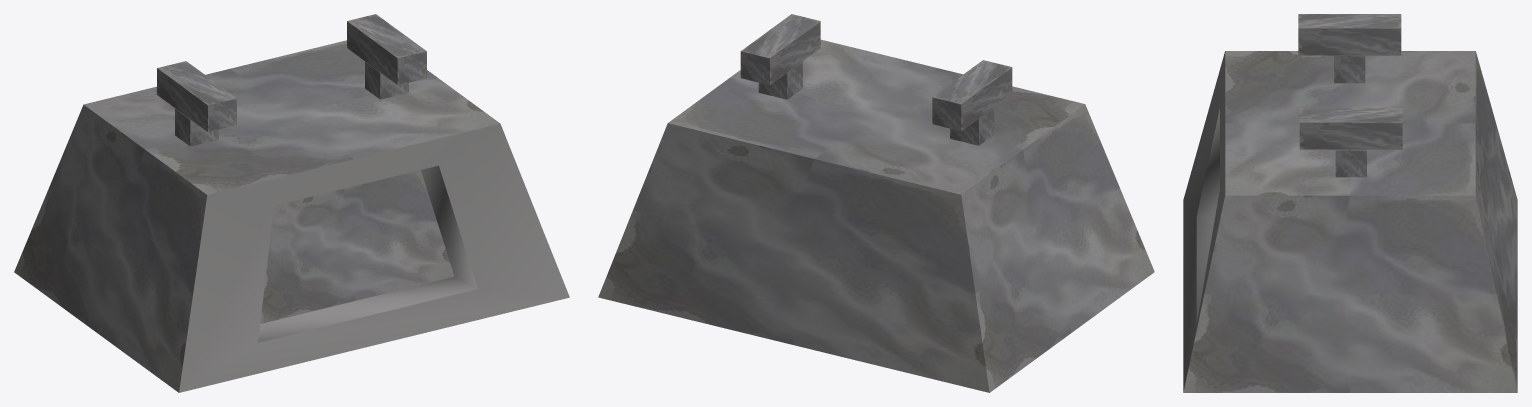
Rendered from trap_head_small.gltf.
3 views of the same model, side by side, from view 1: azimuth 30°, elevation 25°; view 2: azimuth 150°, elevation 25°; view 3: azimuth 270°, elevation 25° (orthographic).
Visible parts, largest first — view 1: Mesh_1, Mesh_0, Mesh_2, Mesh_3; view 2: Mesh_0, Mesh_2, Mesh_3; view 3: Mesh_0, Mesh_1, Mesh_2, Mesh_3.
Boxes of the visible parts, x1,y1,x2,y2 form: Mesh_1: (179,123,569,392); Mesh_0: (14,40,499,392); Mesh_2: (157,61,236,146); Mesh_3: (347,14,426,99); Mesh_0: (598,39,1154,392); Mesh_2: (932,60,1012,145); Mesh_3: (740,14,820,99); Mesh_0: (1183,51,1517,392); Mesh_1: (1183,51,1225,392); Mesh_2: (1298,14,1401,83); Mesh_3: (1299,108,1402,177).
Size of the model in its own units: 0.3648 by 0.2009 by 0.2667.
1 material, 1 textured.
